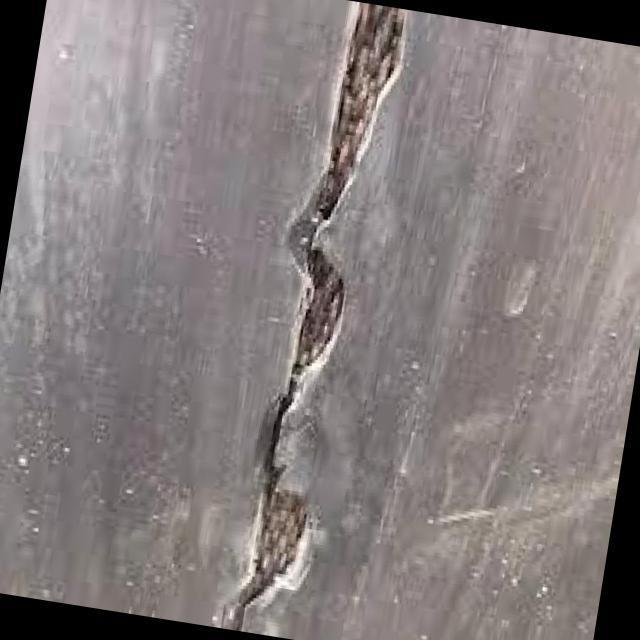Tear: (219, 0, 413, 640)
